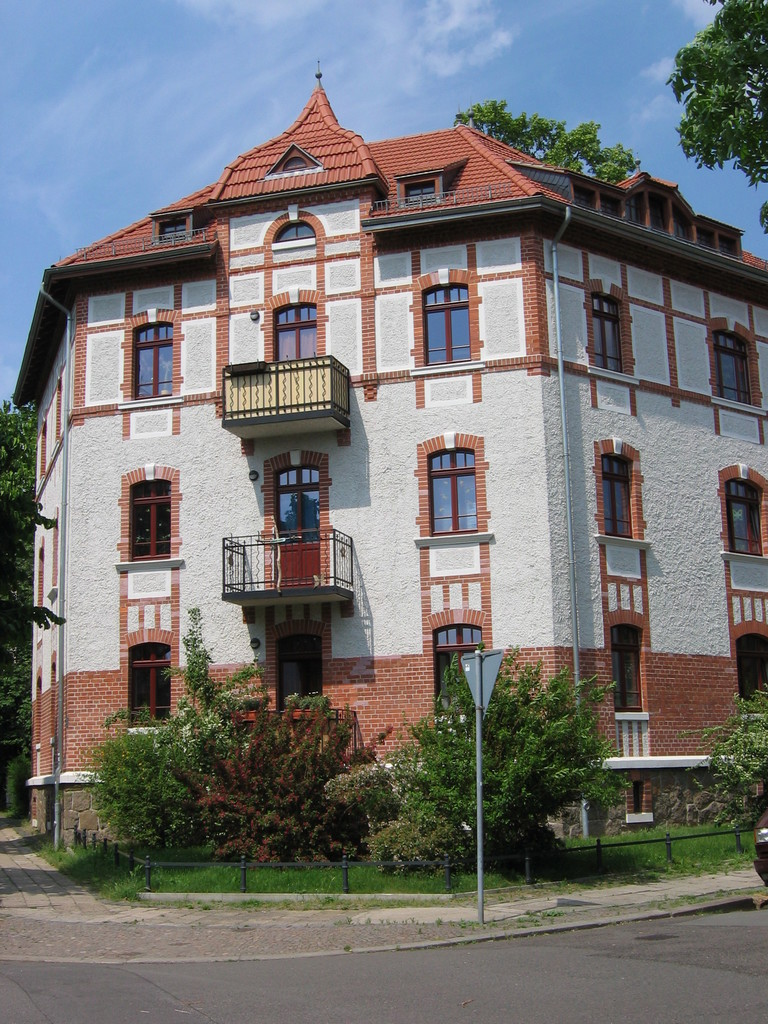Window: (115, 458, 173, 578), (429, 445, 478, 536), (436, 623, 483, 716), (128, 641, 175, 728), (275, 630, 324, 711), (426, 283, 471, 364), (714, 328, 756, 407), (133, 321, 173, 398), (611, 624, 646, 712), (591, 292, 627, 374), (275, 305, 321, 364), (604, 450, 634, 536), (728, 479, 760, 554), (739, 636, 767, 706), (401, 176, 436, 202), (275, 220, 317, 239), (161, 216, 188, 241)
